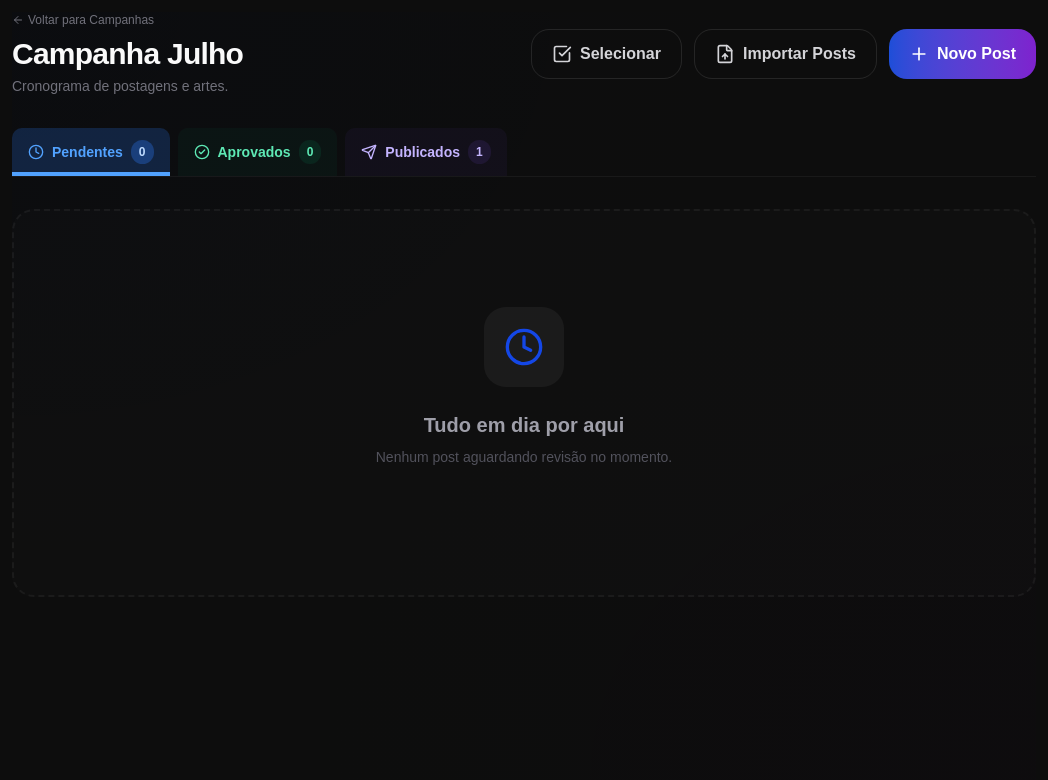
Test: PostsPage — resultado da publicação › não expõe o link do Instagram, mesmo quando a Meta devolve o permalink
Step 1. Click the button "Publicados 1" → (426, 152), box [345, 128, 507, 176]
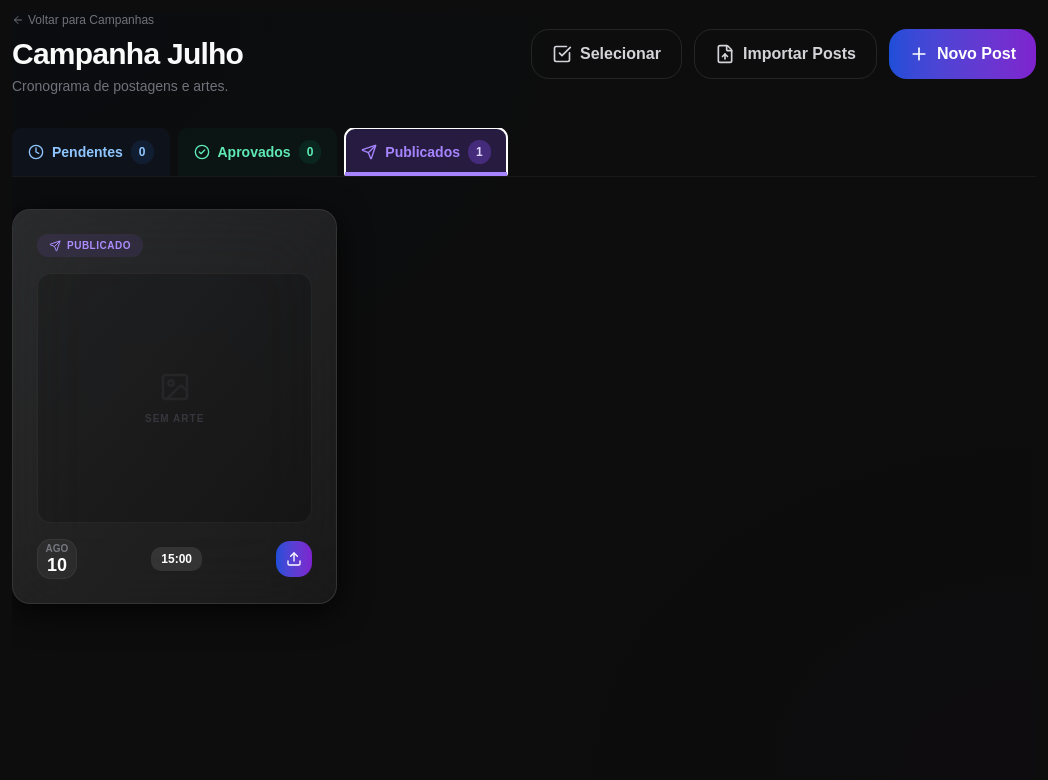
Now the text "Publicado" is shown, box [37, 234, 143, 257]
